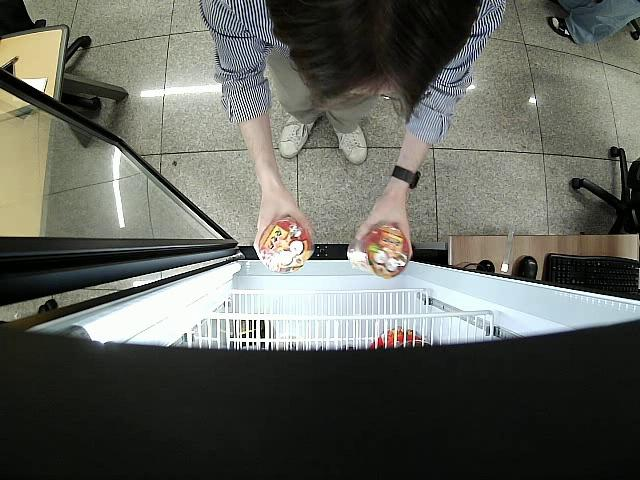00_hand: (252, 190, 317, 260), (357, 201, 411, 259)
06_nuguri_S: (346, 224, 407, 276), (259, 216, 313, 274)
